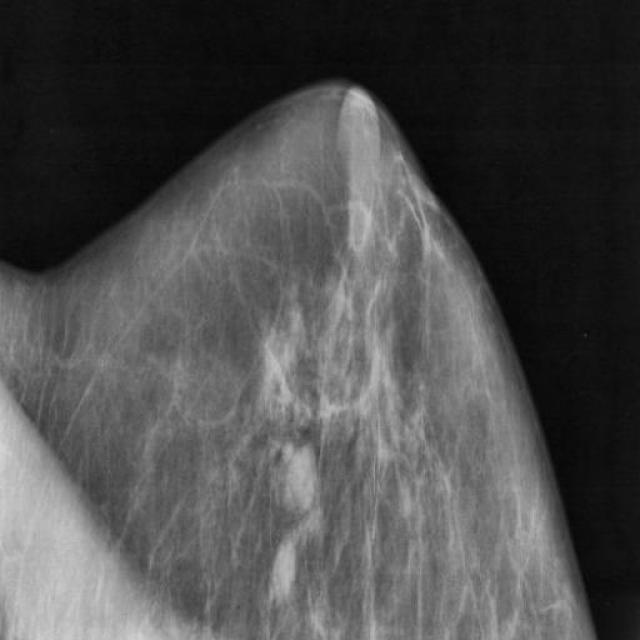cancer: (257, 500, 319, 630), (270, 419, 330, 549)
